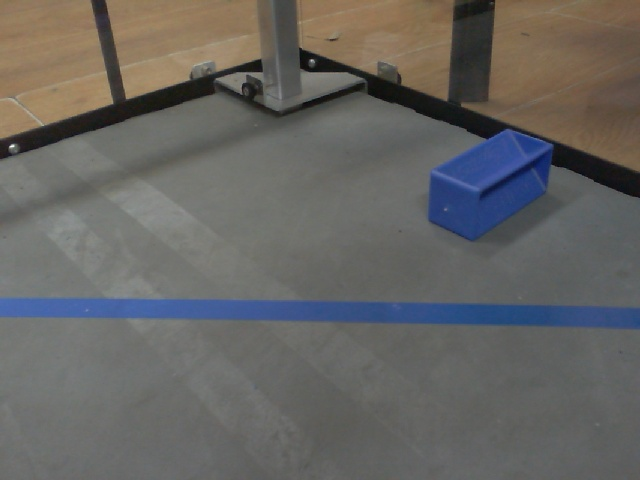BlueSample: (425, 129, 555, 244)
